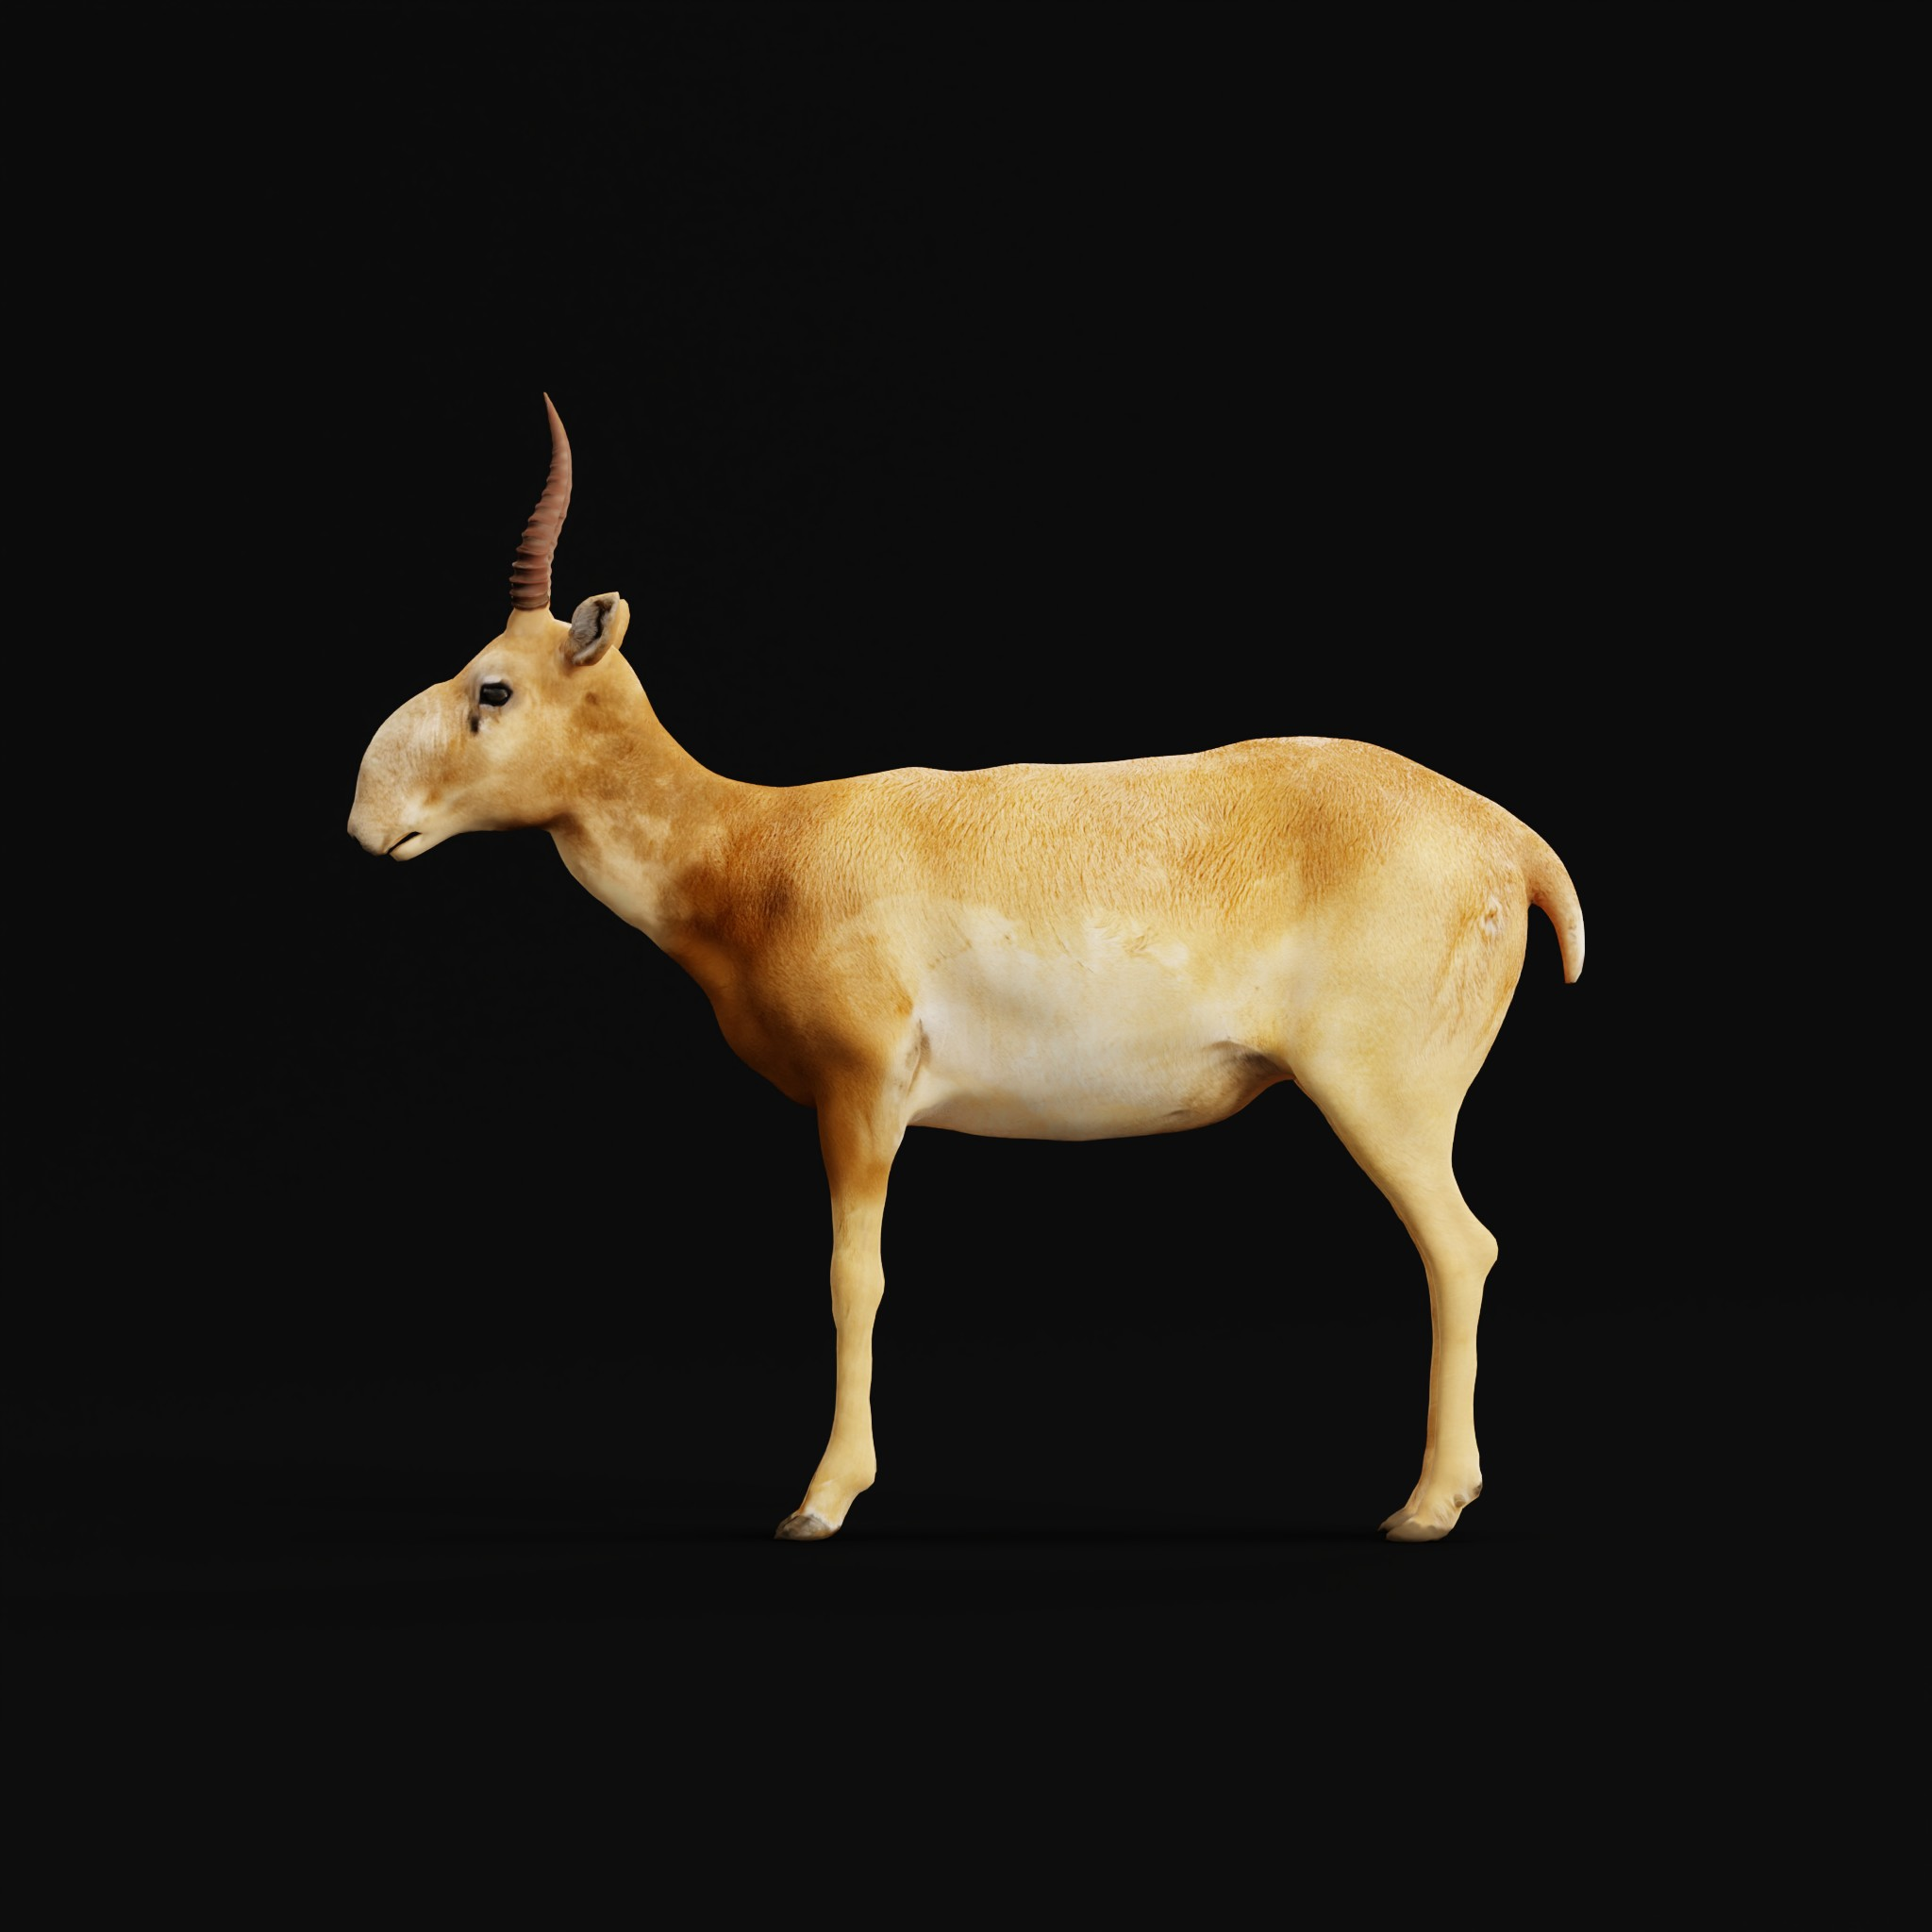saiga: (333, 361, 1560, 1582)
